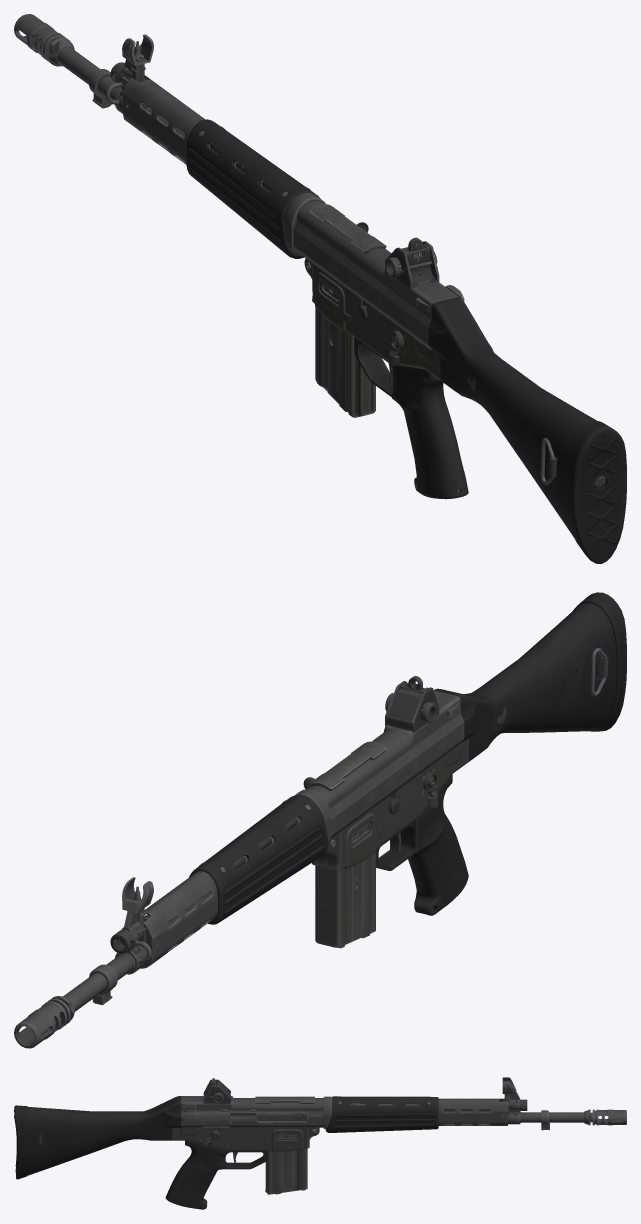
The model's file is burst_rifle.glb.
The picture shows the model from 3 angles, top to bottom: view 1: azimuth 30°, elevation 25°; view 2: azimuth 150°, elevation 25°; view 3: azimuth 270°, elevation 25°; orthographic projection. The views are drawn at different scales.
Visible parts, largest first — view 1: body, magazine; view 2: body, magazine; view 3: body, magazine, bolt.
Boxes of the visible parts, <box> form: body: <box>14,14,626,563</box>; magazine: <box>315,284,375,417</box>; body: <box>14,592,626,1048</box>; magazine: <box>315,825,375,948</box>; body: <box>14,1077,626,1209</box>; magazine: <box>265,1134,307,1194</box>; bolt: <box>255,1110,307,1121</box>.
Bounding box in the file's own units: 0.0558 × 0.2125 × 0.916.
3 materials, 3 textured.
